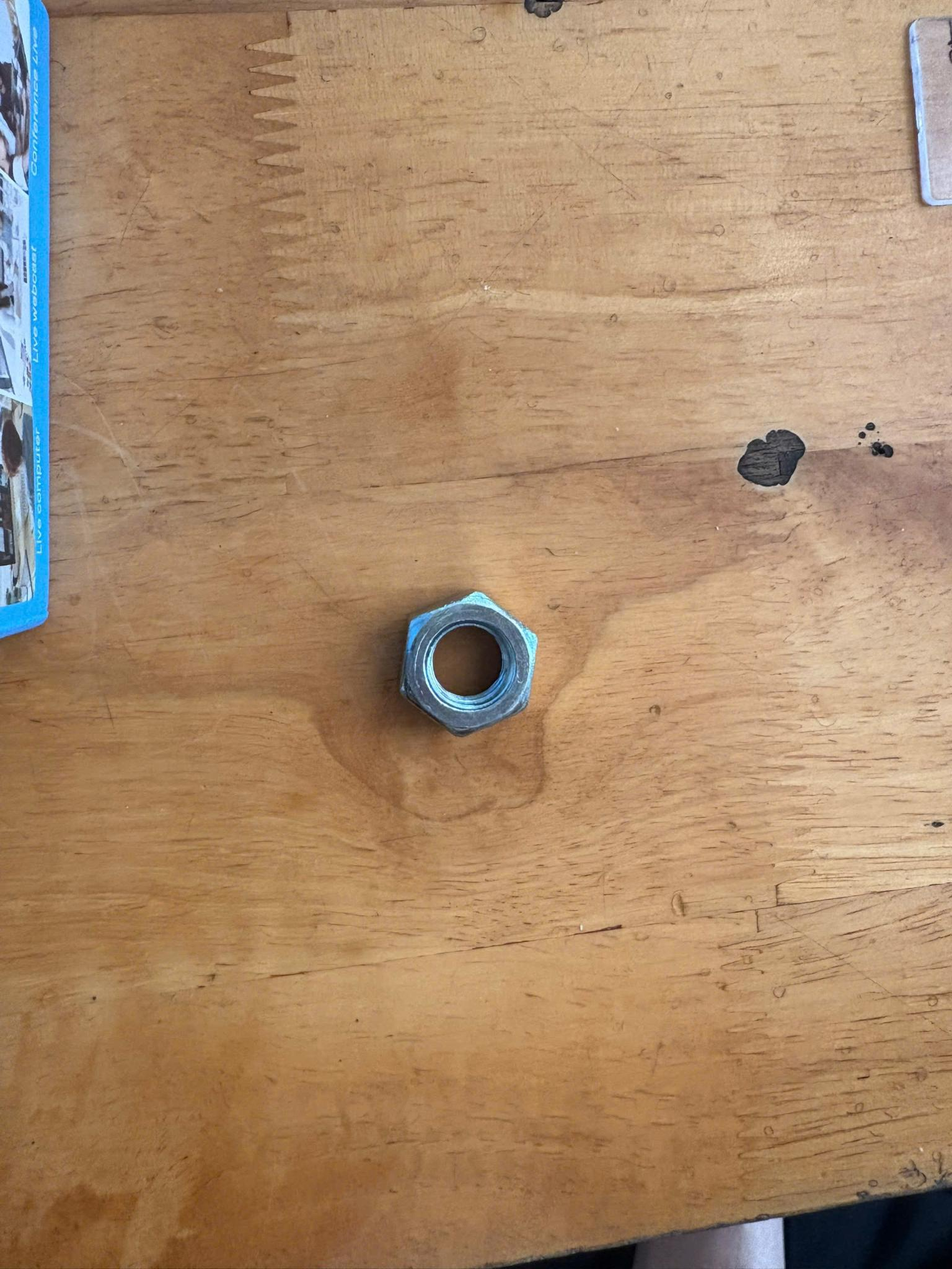nut: (374, 578, 555, 758)
